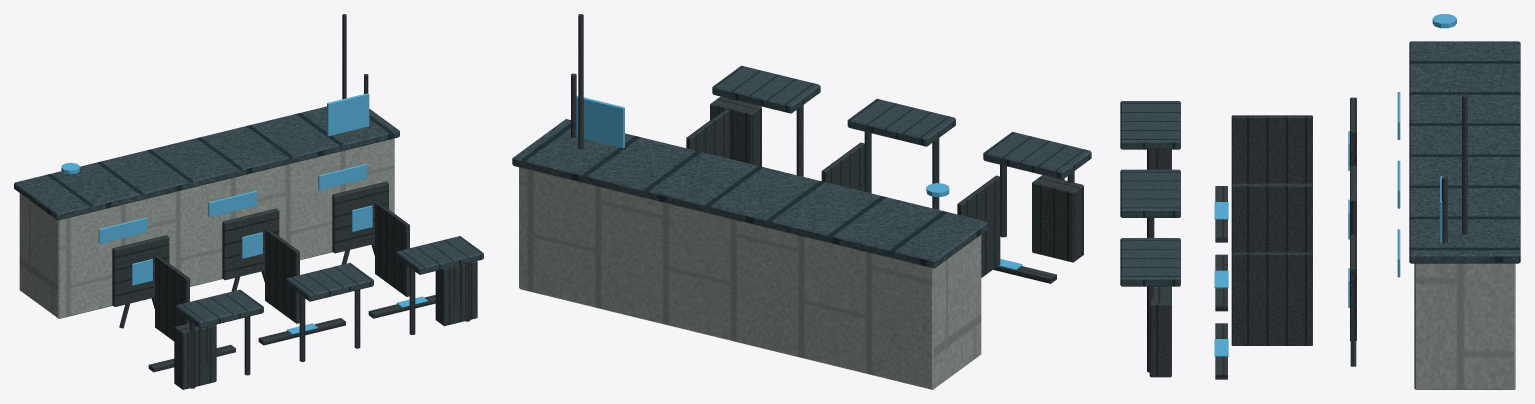
File: edificio-b_000-e5-lod0-BUFQWbE7.glb
The picture shows the model from 3 angles, left to right: view 1: azimuth 30°, elevation 25°; view 2: azimuth 150°, elevation 25°; view 3: azimuth 270°, elevation 25°; orthographic projection. The views are drawn at different scales.
Visible parts, largest first — view 1: envolvente_arqueria, team_color; view 2: envolvente_arqueria, team_color; view 3: envolvente_arqueria, team_color.
Boxes of the visible parts, left/top/right/bottom form: envolvente_arqueria: left=14, top=14, right=483, bottom=389; team_color: left=61, top=93, right=427, bottom=334; envolvente_arqueria: left=512, top=14, right=1091, bottom=389; team_color: left=576, top=95, right=1022, bottom=270; envolvente_arqueria: left=1120, top=41, right=1520, bottom=389; team_color: left=1214, top=14, right=1456, bottom=356.
Size of the model in its own units: 50 by 30.09 by 39.5.
2 materials, 1 textured.
